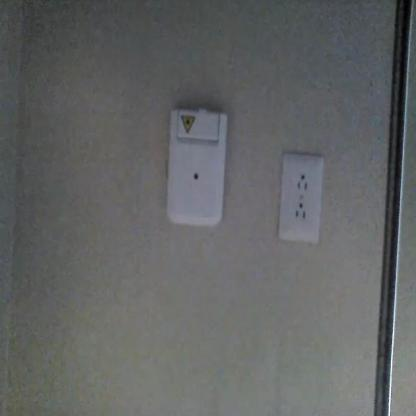OUTLET: (279, 154, 325, 241)
